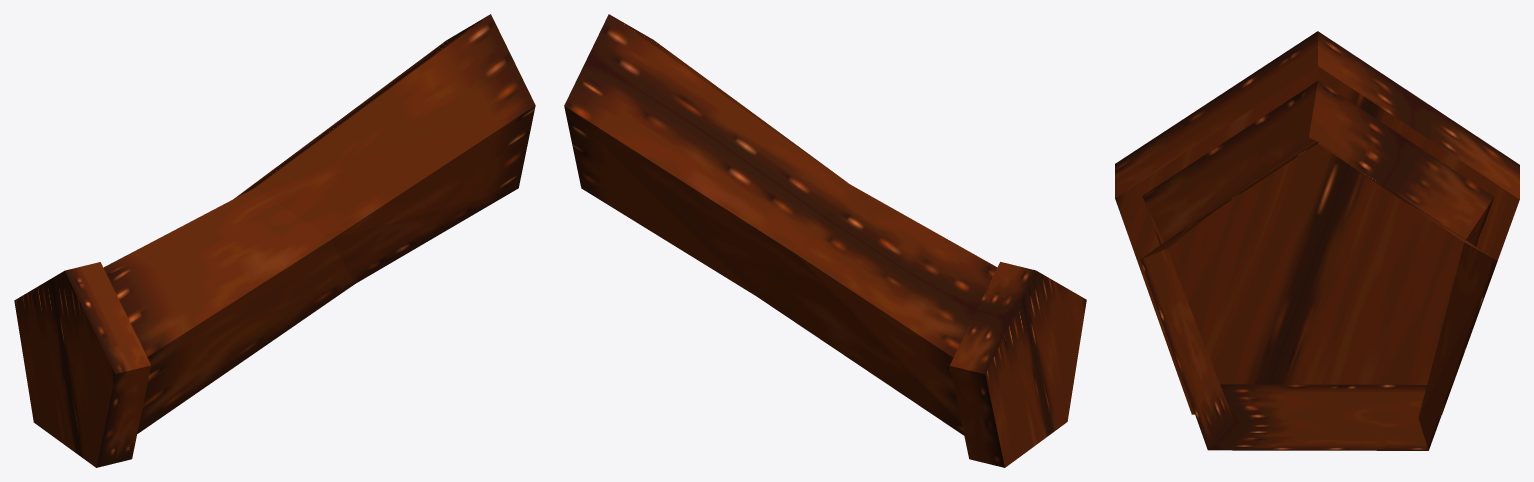
Rendered from Rohr_StückSchräg [Rostig]_1522.glb.
3 views of the same model, side by side, from view 1: azimuth 30°, elevation 25°; view 2: azimuth 150°, elevation 25°; view 3: azimuth 270°, elevation 25° (orthographic). The views are drawn at different scales.
Visible parts, largest first — view 1: pCylinderShape75, pCylinderShape76; view 2: pCylinderShape75, pCylinderShape76; view 3: pCylinderShape76, pCylinderShape75.
Boxes of the visible parts, box(x1,y1,x2,y2) form: pCylinderShape75: box(103, 14, 535, 433); pCylinderShape76: box(14, 262, 151, 467); pCylinderShape75: box(564, 14, 997, 435); pCylinderShape76: box(949, 262, 1086, 467); pCylinderShape76: box(1115, 31, 1519, 414); pCylinderShape75: box(1140, 80, 1497, 450).
Bounding box in the file's own units: 1.04 × 0.7654 × 0.4294.
2 materials, 2 textured.
